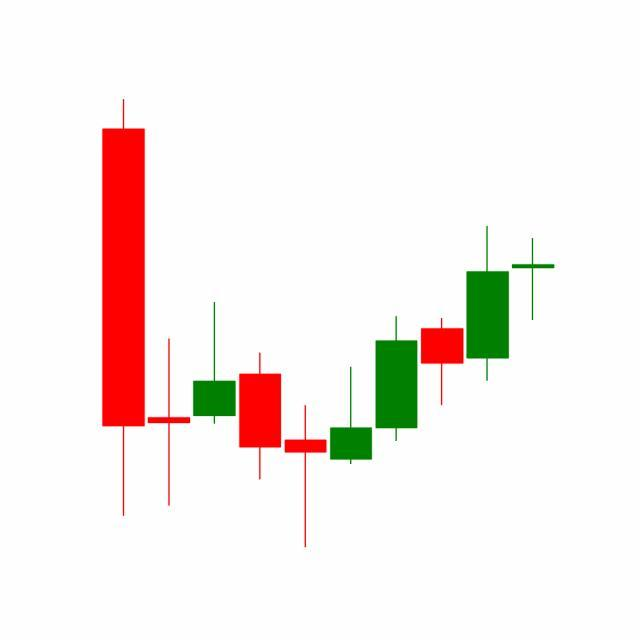Hikkake Pattern: (283, 222, 512, 549)
